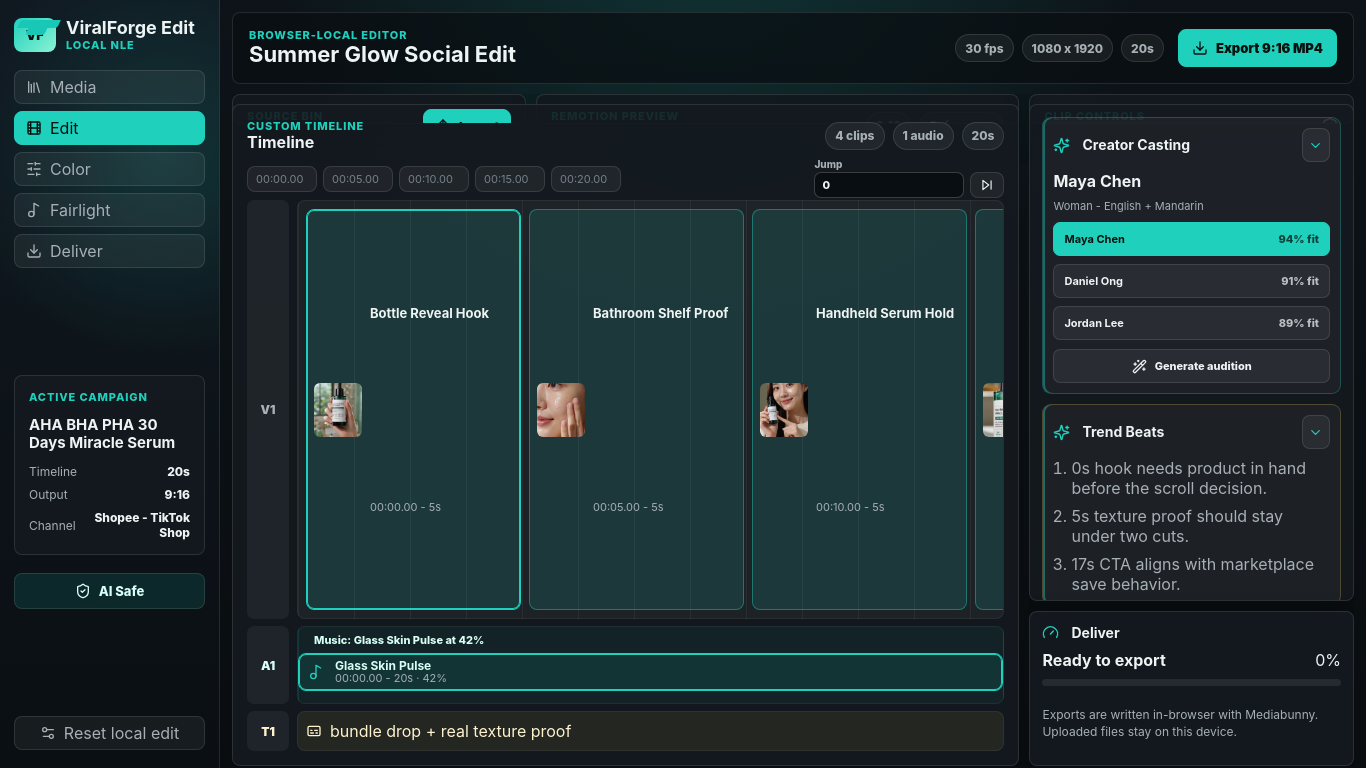
it: DaVinci-style local editor › exports the shared timeline project through the Mediabunny orchestration layer
The width and height of the screenshot is (1366, 768).
What coordinates should you click on to do the following:
click the button "Export 9:16 MP4"
I would click on:
 (1257, 48)
Its box is [1178, 29, 1337, 67].
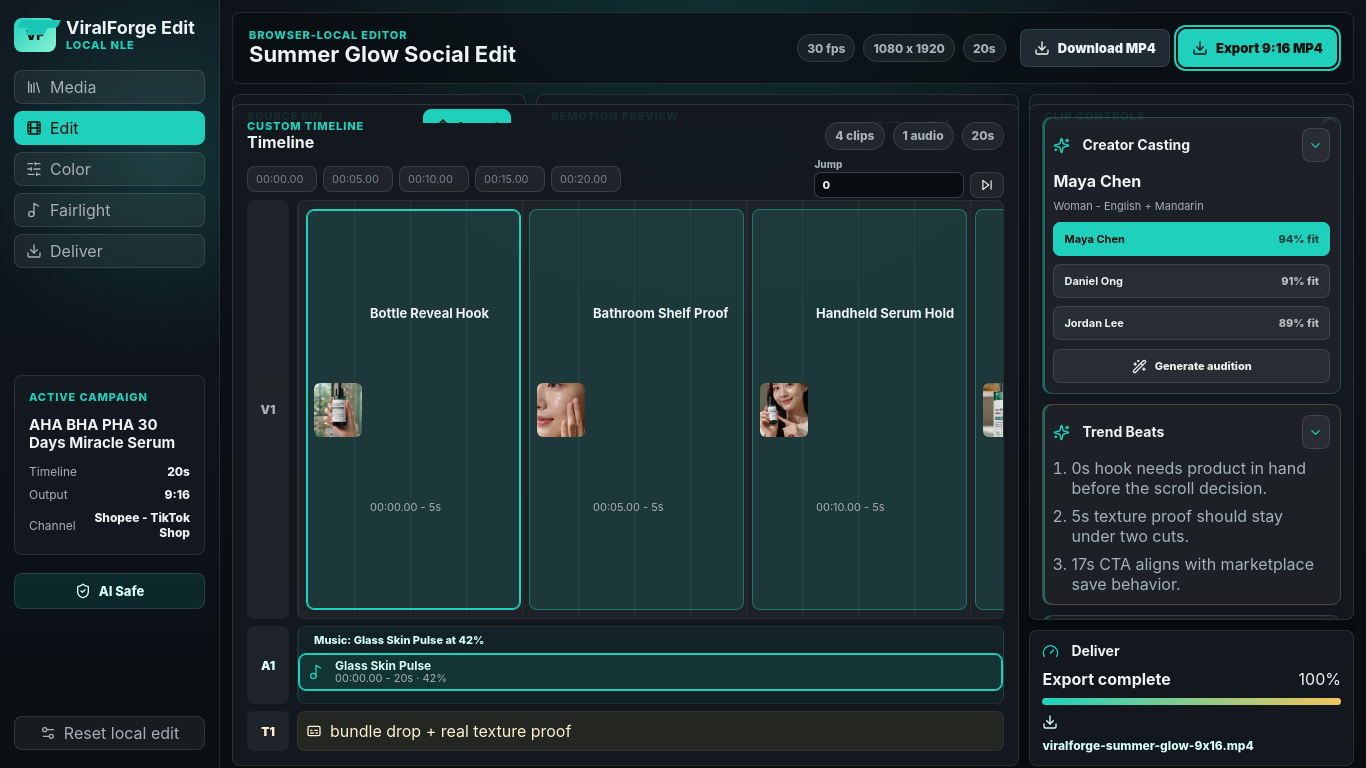
expect the message named "export status" shows "Export complete": met, box [1042, 669, 1171, 689]
expect the text "viralforge-summer-glow-9x16.mp4" is shown: met, box [1042, 738, 1254, 753]
